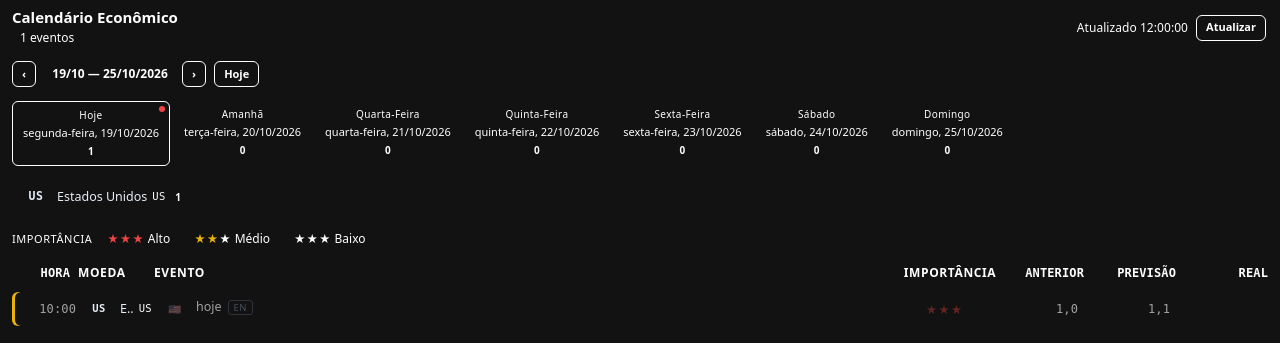
it: EconomicCalendarTab — a tela diz ate onde vai o dado › diz a janela quando a semana visivel esta fora do dado
Click the button named "Semana anterior" at (24, 74), box [12, 61, 36, 87]
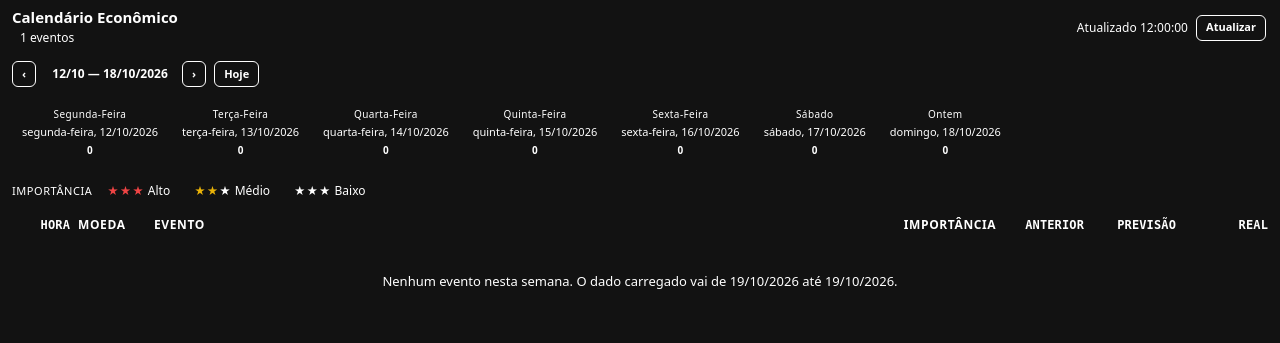
Check: the text with class "cal-state" shows "O dado carregado vai de", box [382, 272, 726, 290]
